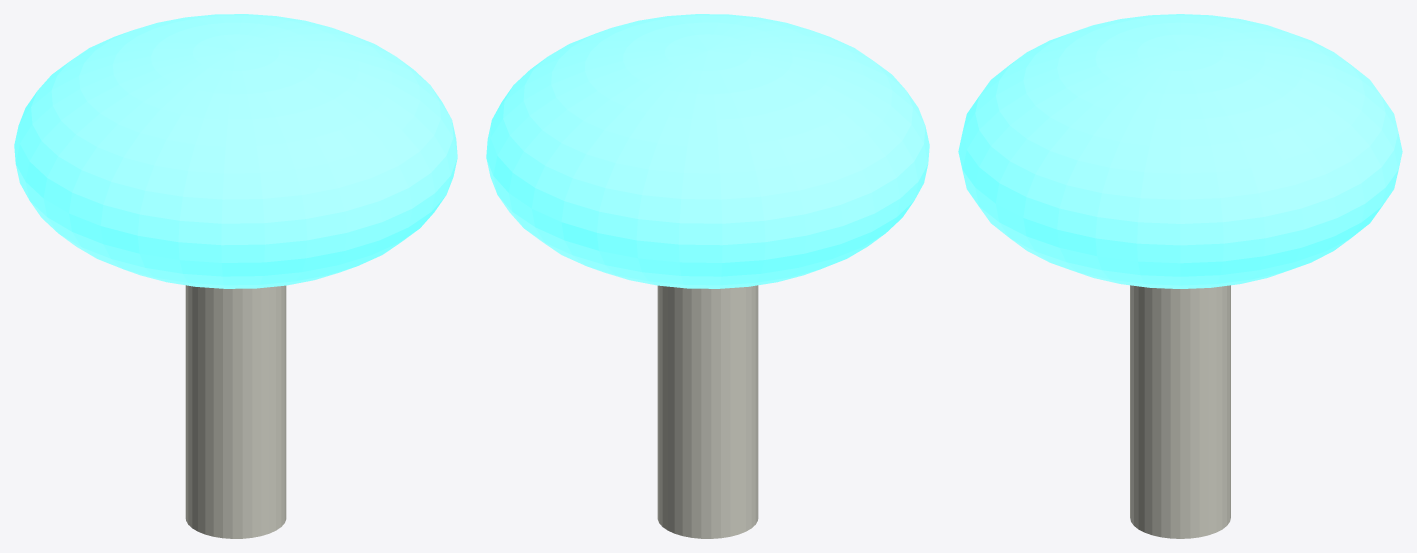
Rendered from glowing_mushroom.glb.
3 renders of one model, left to right at view 1: azimuth 30°, elevation 25°; view 2: azimuth 150°, elevation 25°; view 3: azimuth 270°, elevation 25°, orthographic.
Visible parts, largest first — view 1: MushroomCap, Cilindro; view 2: MushroomCap, Cilindro; view 3: MushroomCap, Cilindro.
Boxes of the visible parts, bbox=[...] form: MushroomCap: bbox=[14, 14, 457, 288]; Cilindro: bbox=[185, 285, 286, 538]; MushroomCap: bbox=[486, 14, 929, 288]; Cilindro: bbox=[657, 285, 758, 538]; MushroomCap: bbox=[958, 14, 1402, 288]; Cilindro: bbox=[1130, 285, 1230, 538].
Bounding box in the file's own units: 0.44 × 0.51 × 0.44.
